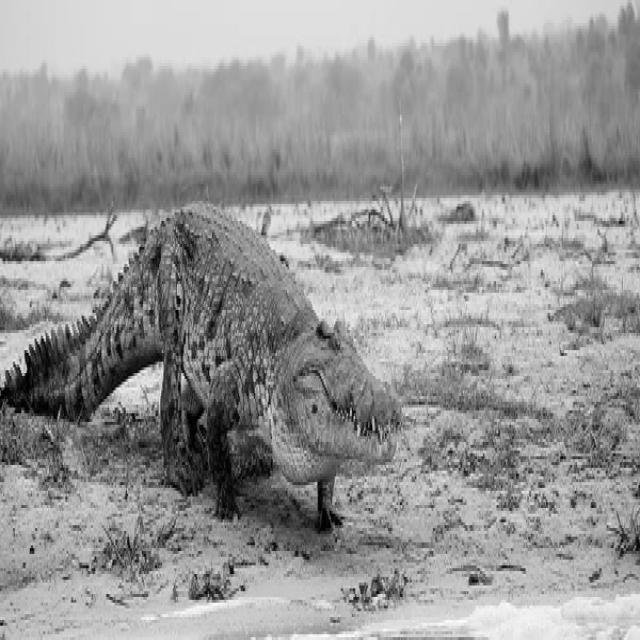Animal: (3, 204, 402, 526)
